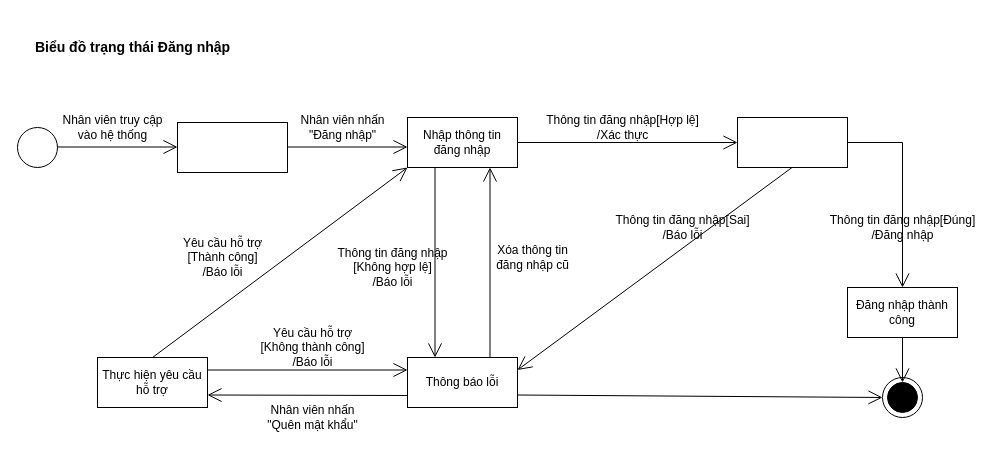
This 992x464 diagram has some shape labels left out. The centre of each missing label's shape, as x and y in pixels:
Chưa đăng nhập: pixel 232 147
Xác thực thông tin: pixel 792 142
